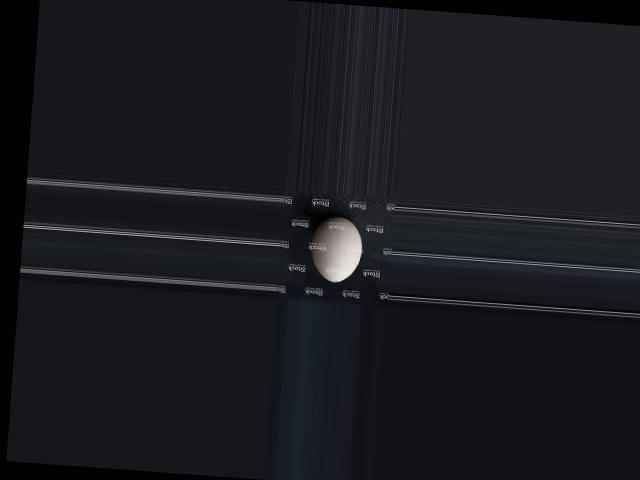egg: (308, 214, 363, 283)
